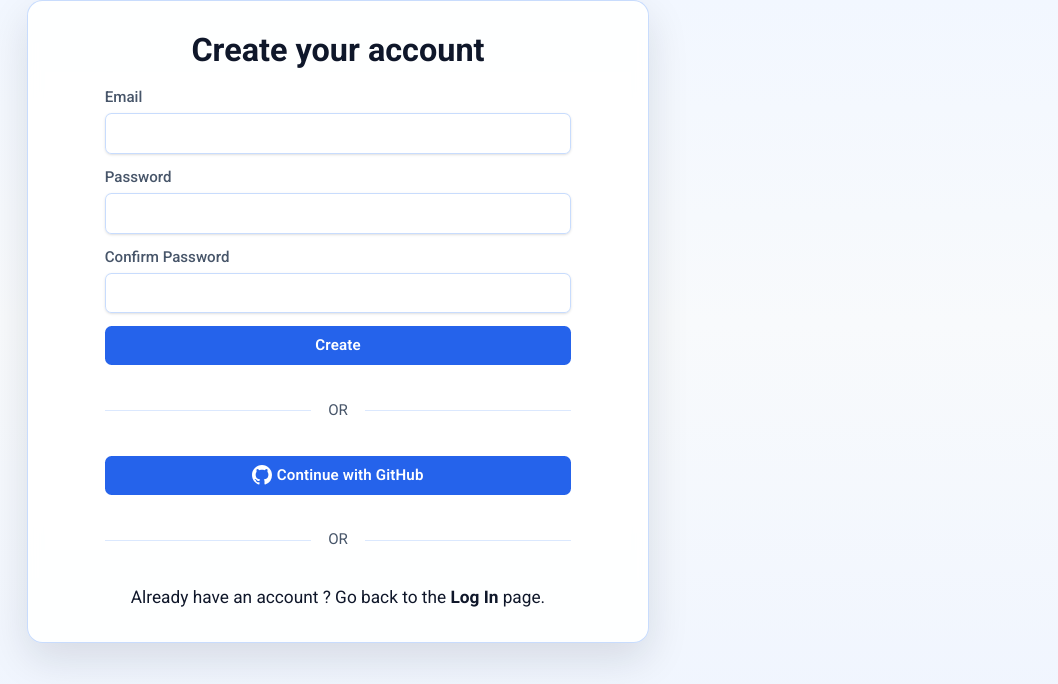
Test: SignUp Form Submit › Shows error message after clicking Create when fetching with existing email
In the field labelled "Email": point(338, 134) [105, 113, 571, 154], type "newemail@mail.com"
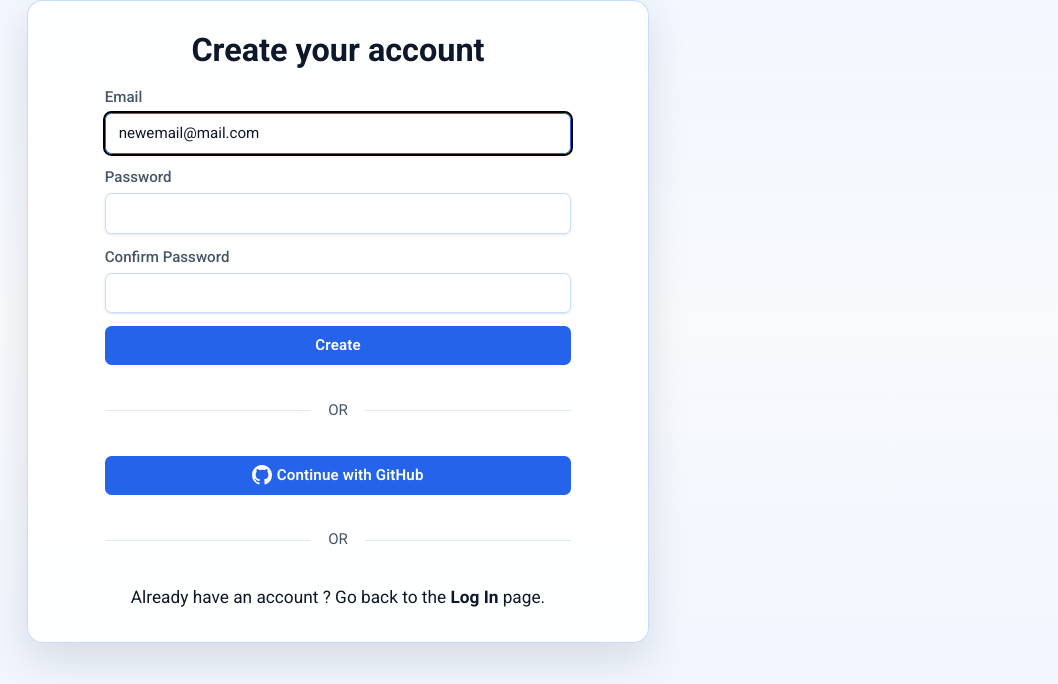
In the password field labelled "Password": point(338, 213) [105, 193, 571, 234], type "Password123!"
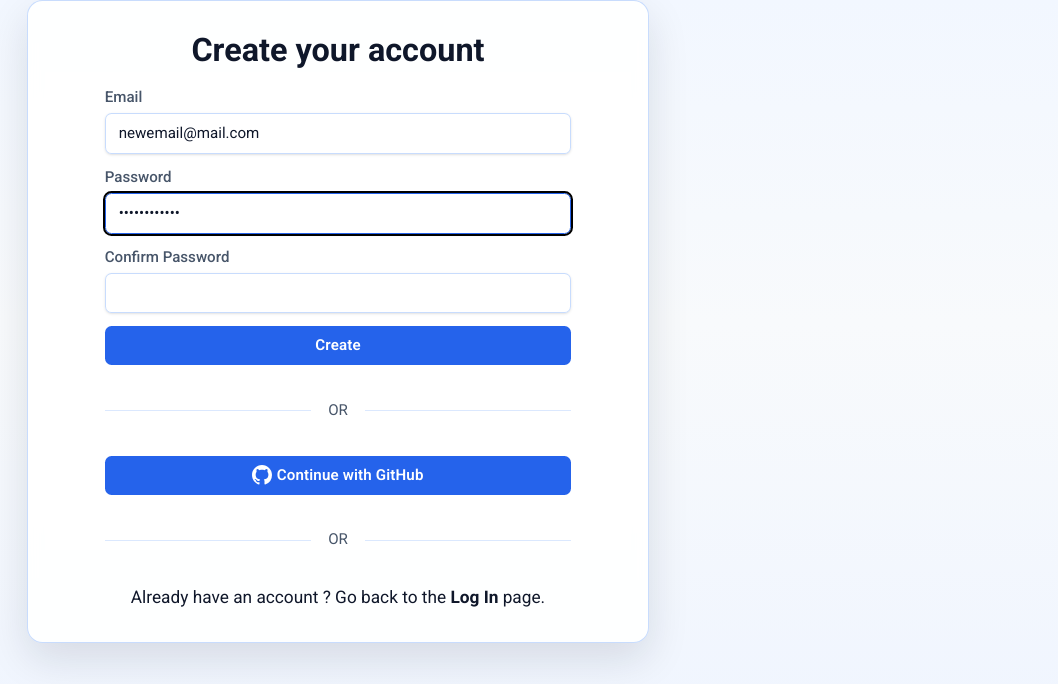
In the password field labelled "Confirm Password": point(338, 293) [105, 273, 571, 313], type "Password123!"
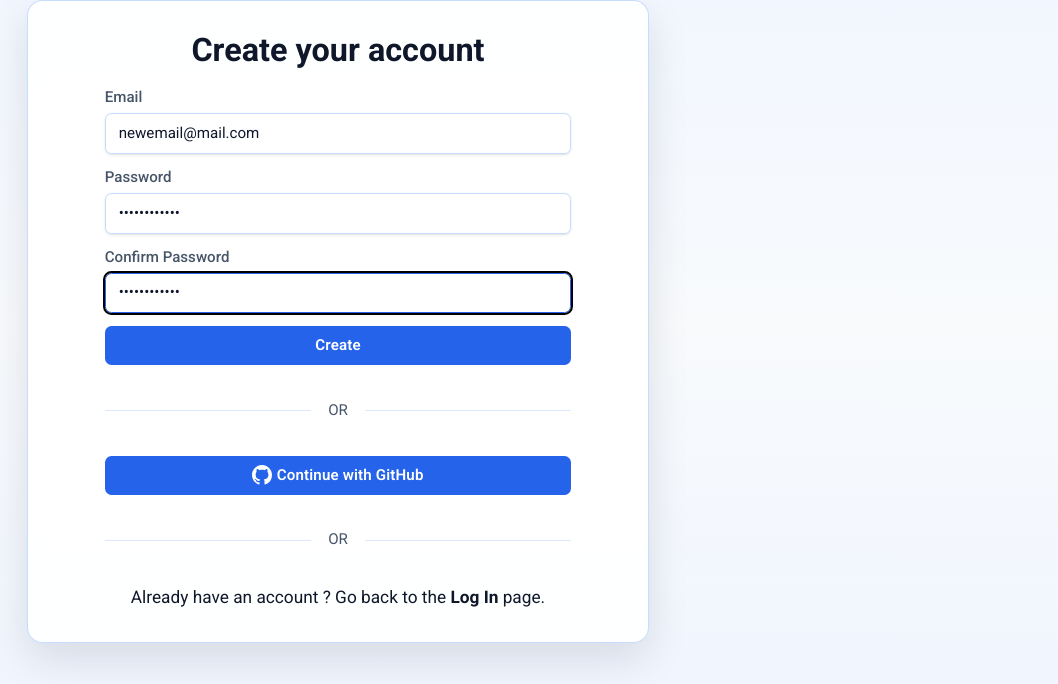
Click the button "Create": point(338, 346) [105, 326, 571, 365]
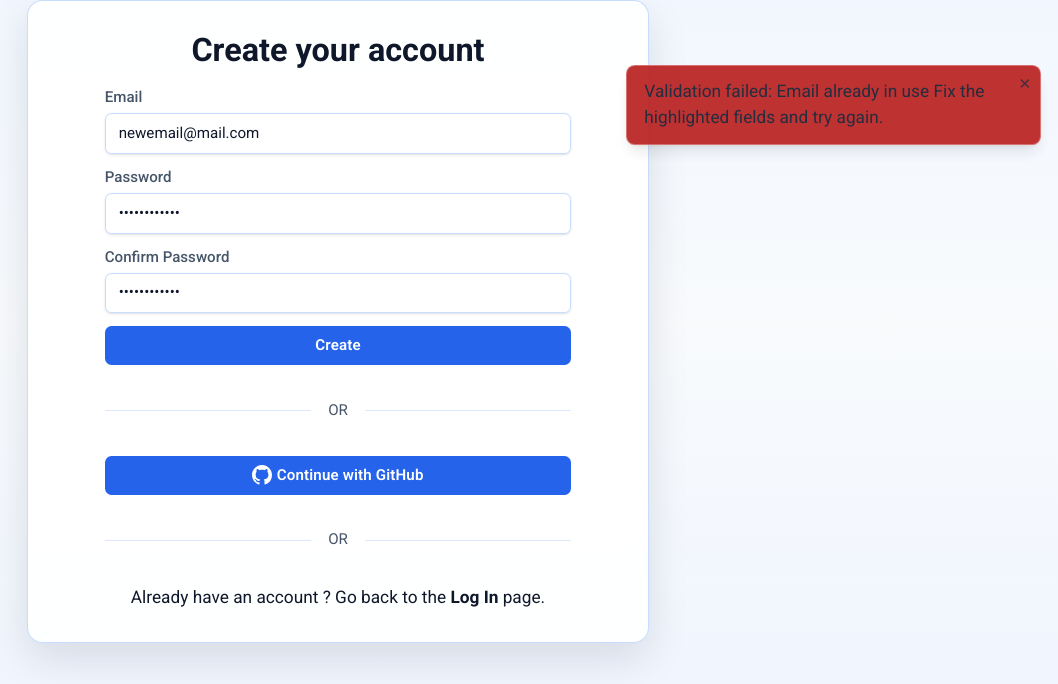
Now the text "Email already in use" is shown, box [644, 81, 984, 127]
